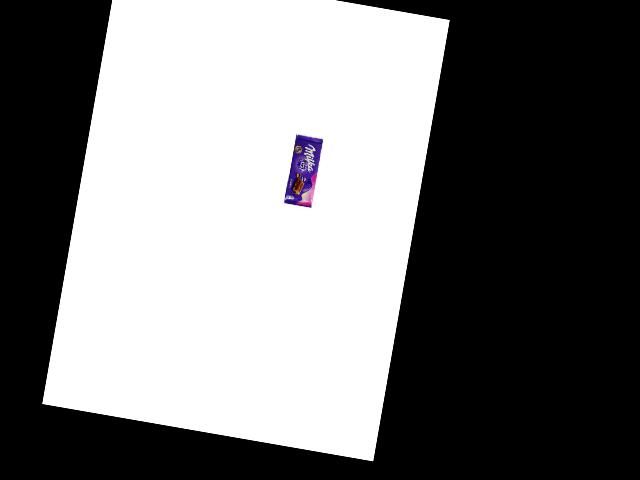chocolate: (283, 133, 323, 207)
